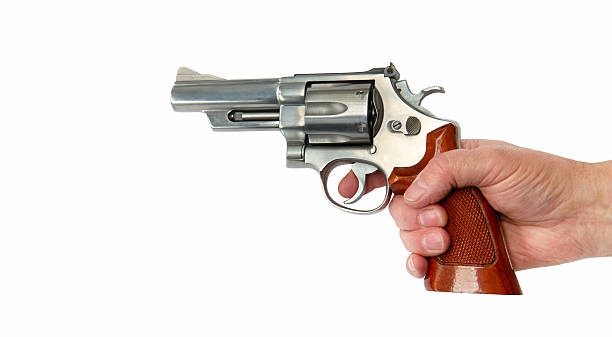gun: (168, 63, 523, 296)
